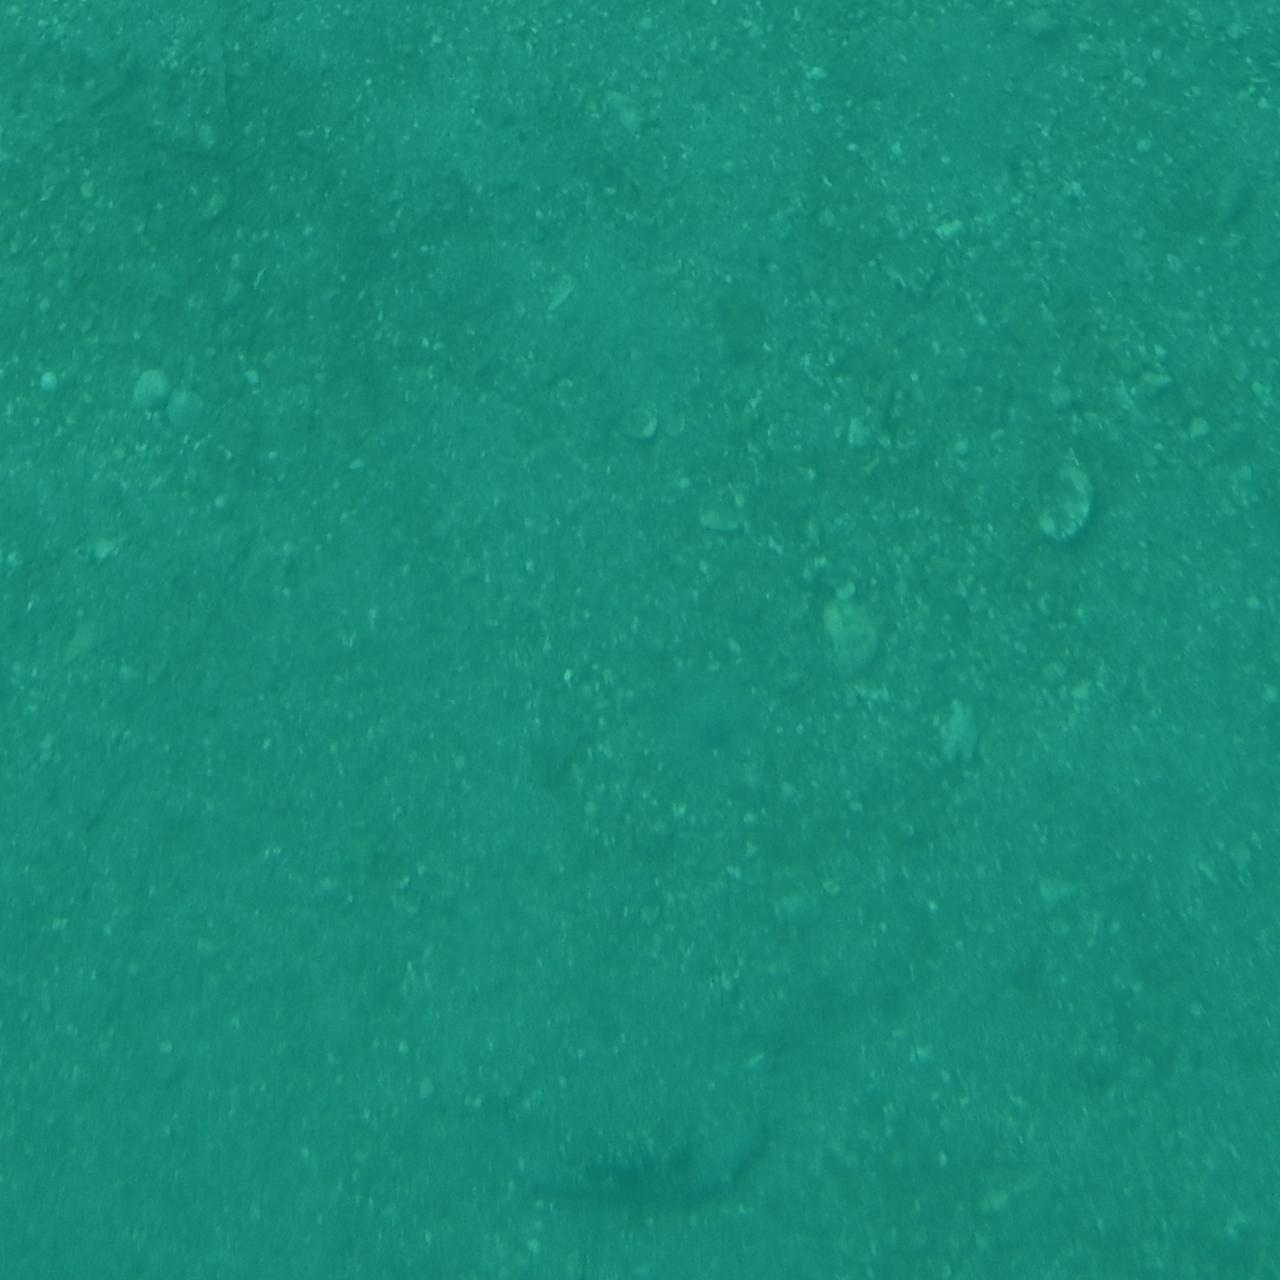Holothuria tubulosa: (503, 1078, 777, 1235)
